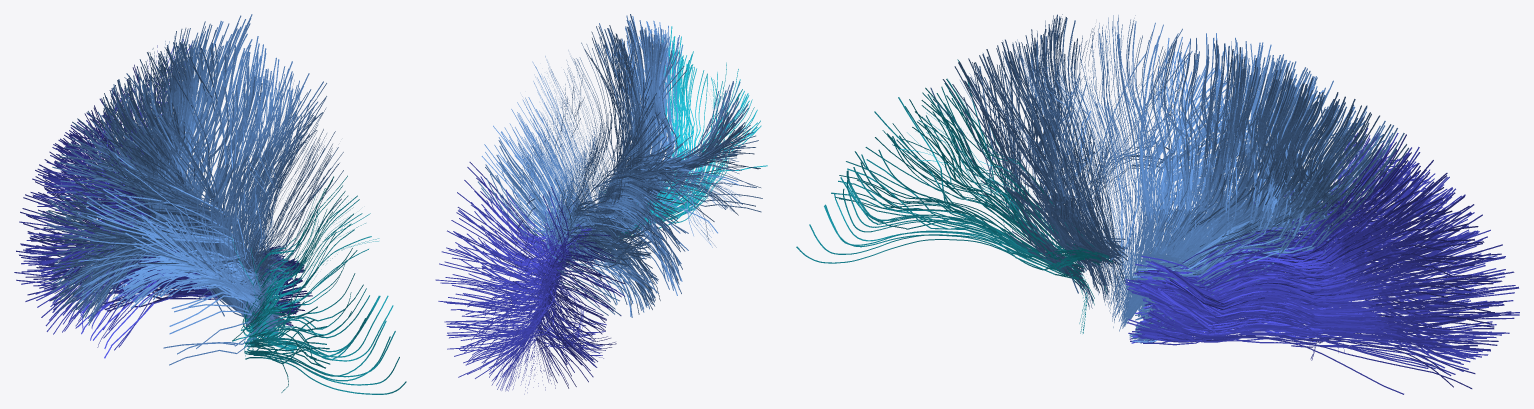
3 views of the same model, side by side, from view 1: azimuth 30°, elevation 25°; view 2: azimuth 150°, elevation 25°; view 3: azimuth 270°, elevation 25° (orthographic). The views are drawn at different scales.
Visible parts, largest first — view 1: tracts.002, tracts.001, tracts; view 2: tracts.002, tracts.001, tracts; view 3: tracts.002, tracts.001, tracts.
Part boxes in pixels (x1,y1,x2,y2): tracts.002: [38, 14, 343, 365]; tracts.001: [14, 39, 312, 358]; tracts: [231, 175, 406, 394]; tracts.002: [478, 14, 762, 317]; tracts.001: [435, 162, 625, 394]; tracts: [599, 26, 767, 238]; tracts.002: [930, 14, 1408, 343]; tracts.001: [1125, 117, 1519, 394]; tracts: [796, 59, 1112, 333].
Bounding box in the file's own units: 60.78 × 92.92 × 161.
